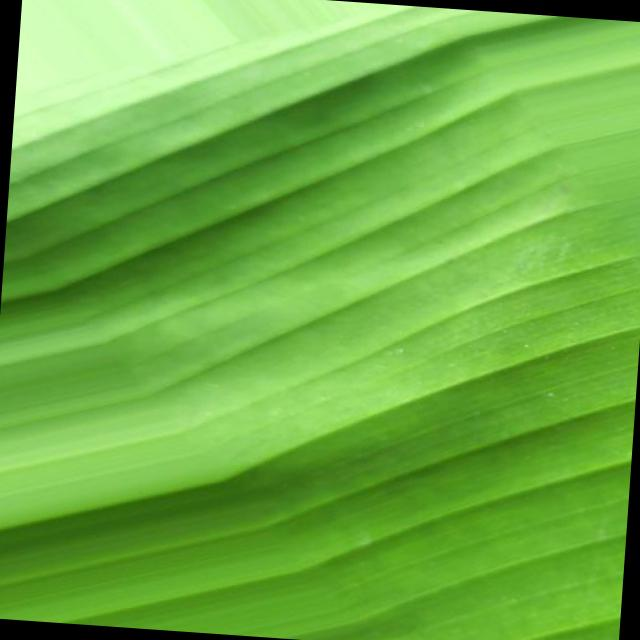Banana_Healthy: (59, 180, 536, 572)
